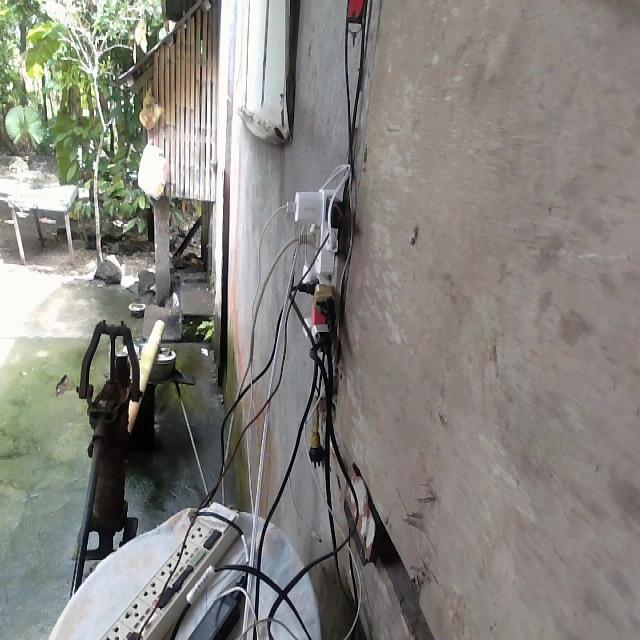-: (284, 187, 346, 356)
